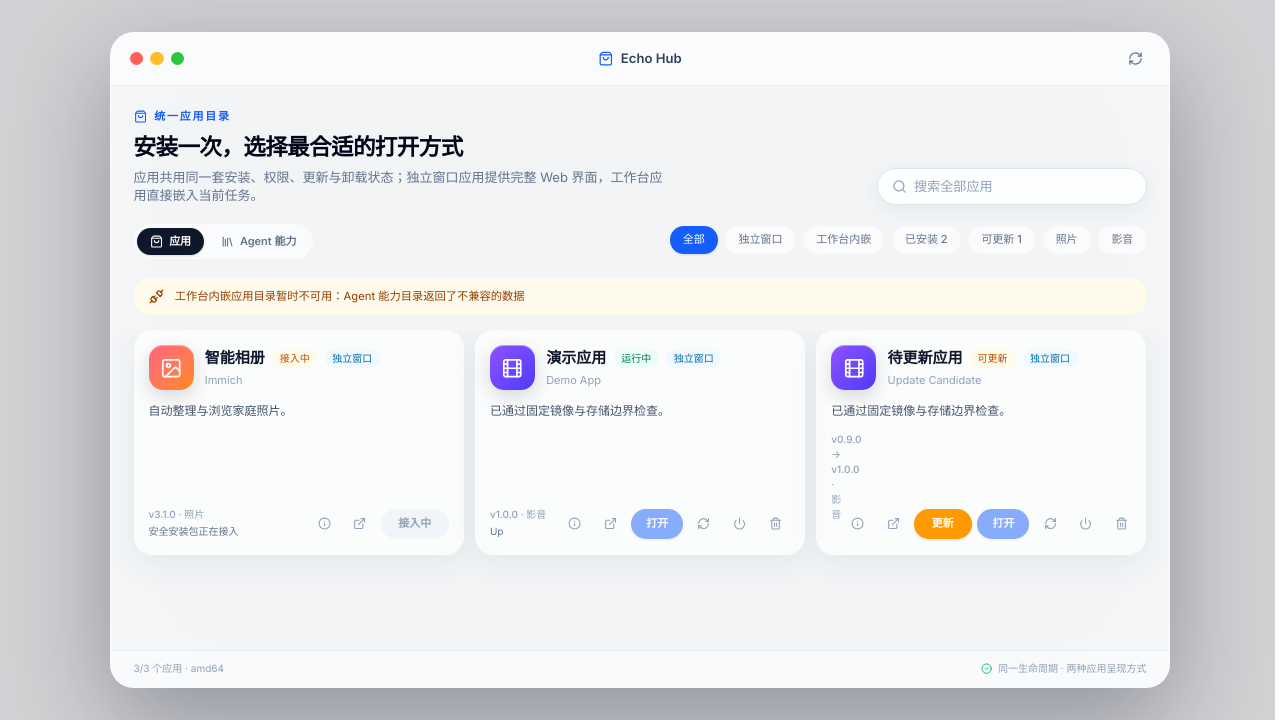
Test: Echo Hub panel › groups installed applications and available updates without another data store
Click the button "已安装 2": (926, 240) [892,226,961,254]
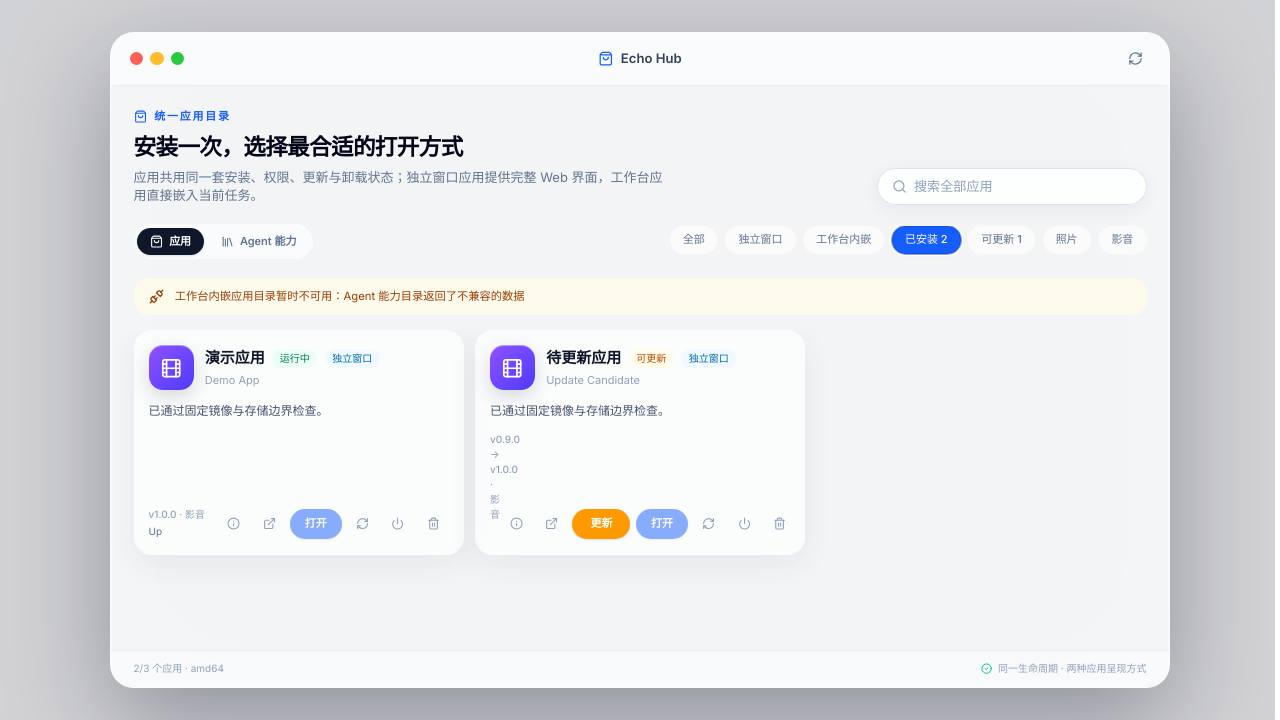
expect the heading "演示应用" is shown: met, box [205,347,265,370]
expect the heading "智能相册" is gone: met
expect the text "2/3 个应用 · amd64" is shown: met, box [134,661,224,676]
Click the button "可更新 1": (1002, 240) [968,226,1035,254]
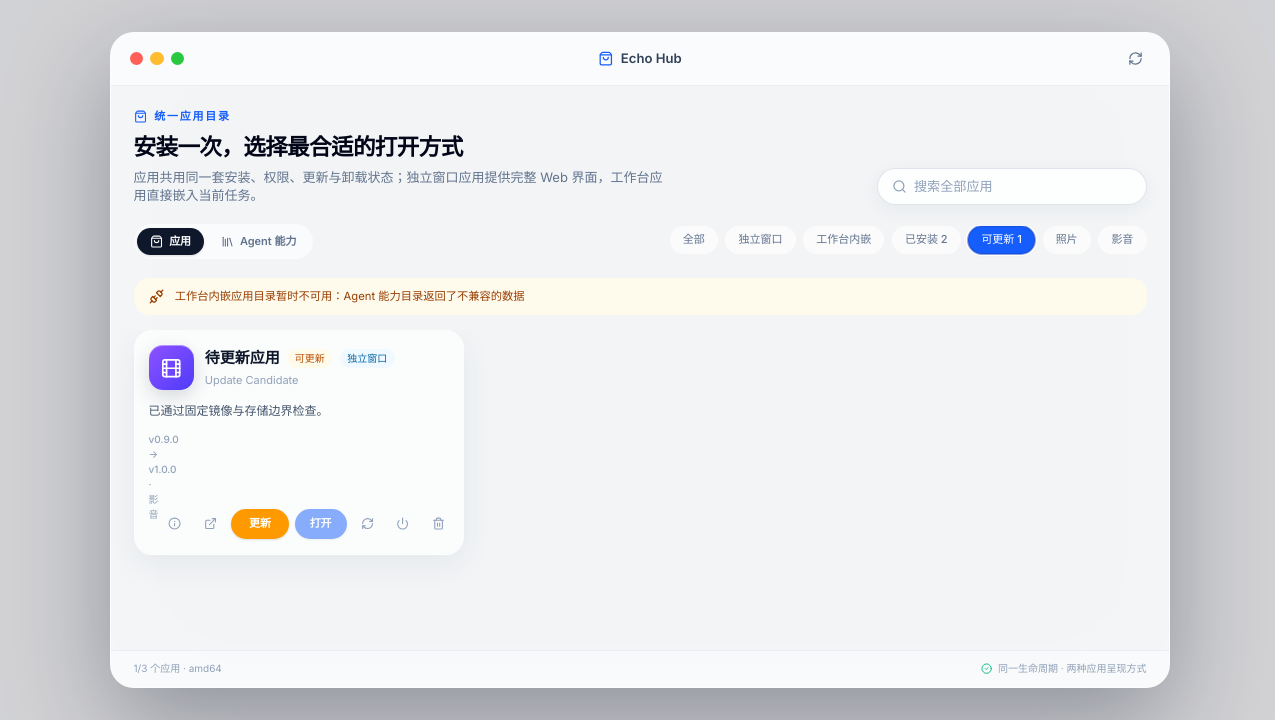
expect the heading "待更新应用" is shown: met, box [205,347,280,370]
expect the heading "演示应用" is gone: met
expect the text "1/3 个应用 · amd64" is shown: met, box [134,661,222,676]
